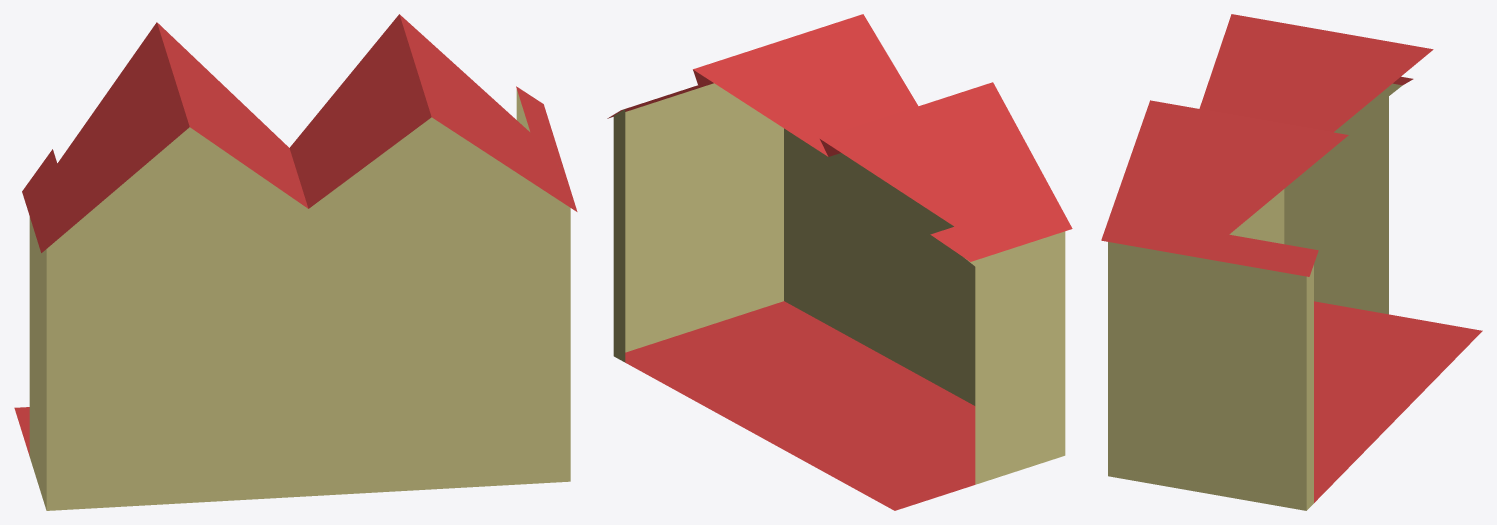
3 views of the same model, side by side, from view 1: azimuth 30°, elevation 25°; view 2: azimuth 150°, elevation 25°; view 3: azimuth 270°, elevation 25° (orthographic). The views are drawn at different scales.
Bounding box in the file's own units: 24.41 × 17.84 × 17.02.
